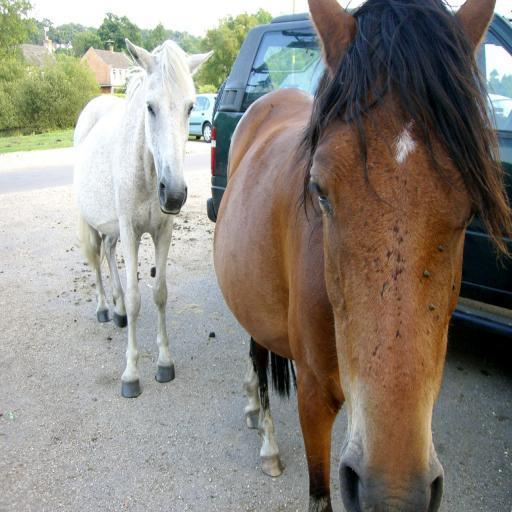horse: (214, 1, 512, 512), (72, 38, 214, 398)
